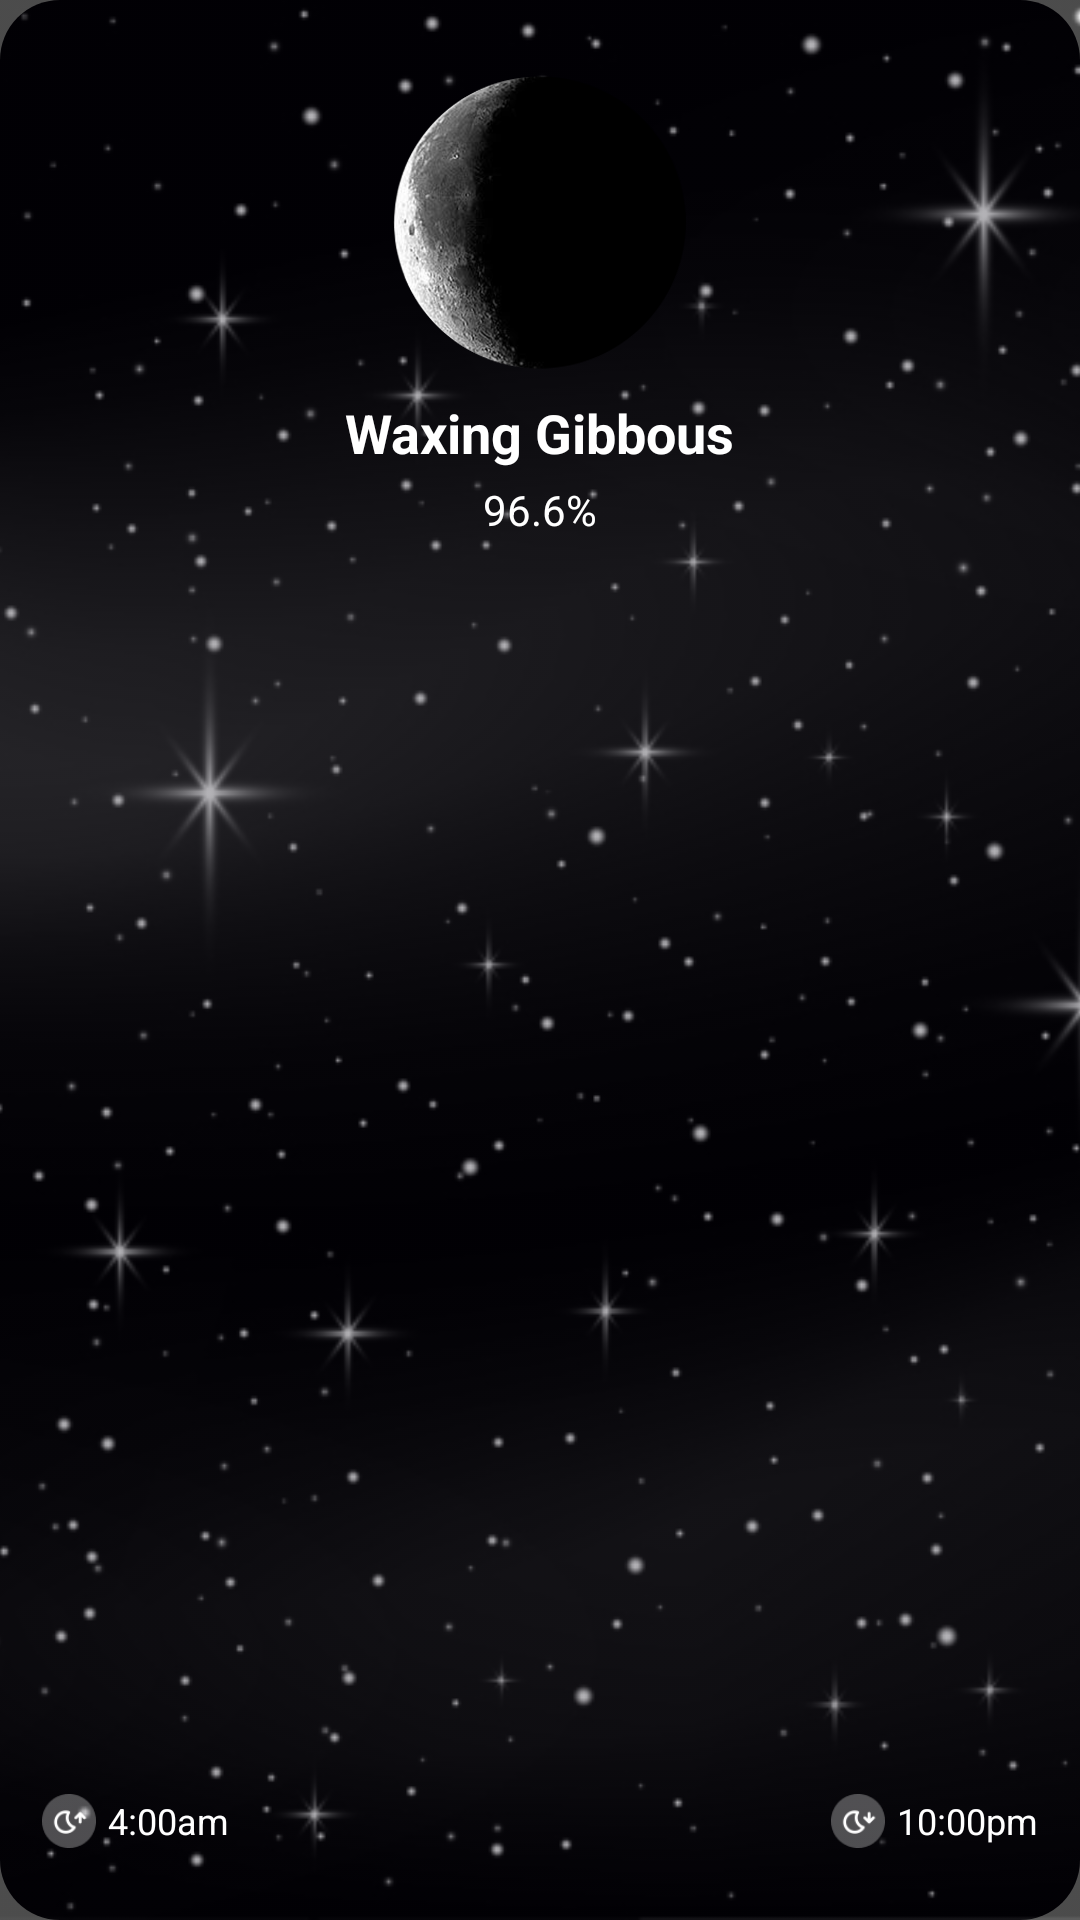

Icon click points for this 1080 × 1920 phone screenshot, format (x,y):
moonrise: (69,1821)
moonset: (858,1821)
